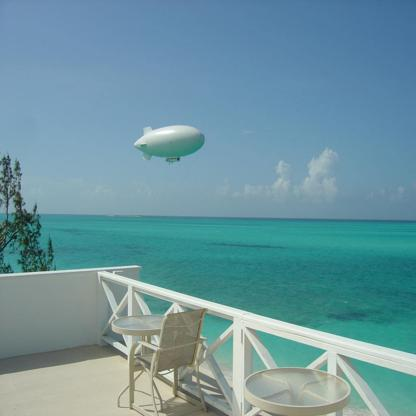Airship: (134, 124, 207, 165)
